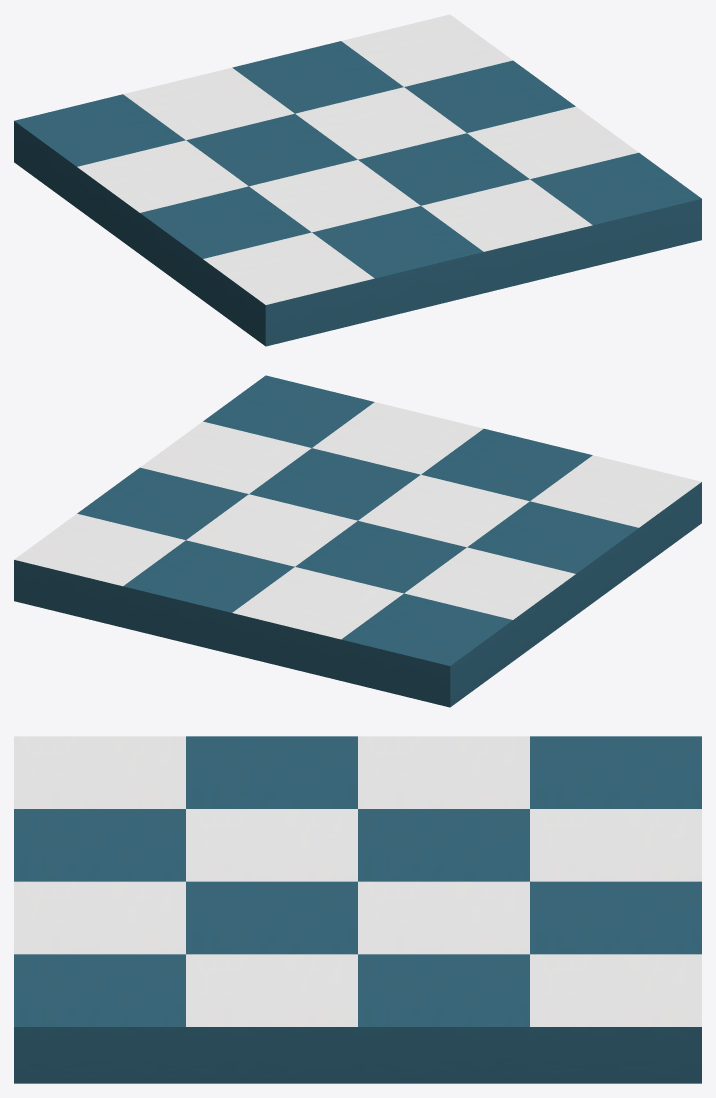
Rendered from floor_1.glb.
The picture shows the model from 3 angles, top to bottom: view 1: azimuth 30°, elevation 25°; view 2: azimuth 150°, elevation 25°; view 3: azimuth 270°, elevation 25°; orthographic projection. The views are drawn at different scales.
Visible parts, largest first — view 1: floor_1; view 2: floor_1; view 3: floor_1.
Boxes of the visible parts, box(x1,y1,x2,y2) form: floor_1: box(14, 14, 701, 346); floor_1: box(14, 375, 701, 707); floor_1: box(14, 736, 701, 1083).
Bounding box in the file's own units: 2 × 0.1816 × 2.
1 material, 1 textured.
